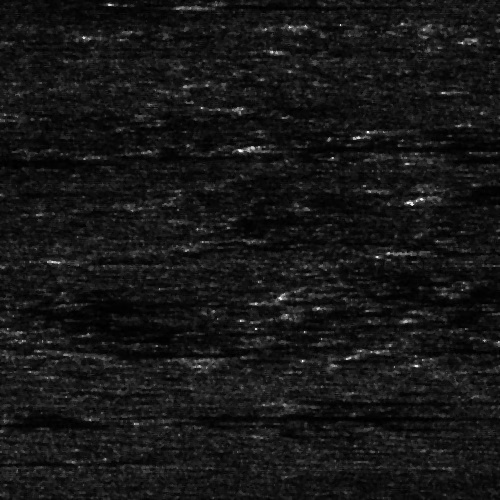object: (104, 408, 219, 425), (349, 148, 484, 161), (316, 342, 473, 353), (218, 139, 323, 152), (401, 185, 464, 206), (343, 123, 426, 136), (44, 343, 117, 354), (137, 0, 220, 9), (380, 247, 463, 252), (282, 396, 323, 403)
shadow: (162, 408, 469, 425), (271, 139, 500, 152), (81, 343, 322, 354), (179, 0, 361, 9), (0, 454, 124, 467), (433, 185, 500, 206), (395, 342, 500, 353), (417, 148, 500, 161), (303, 396, 429, 403), (385, 123, 450, 136), (0, 418, 60, 425), (422, 247, 500, 252), (0, 160, 114, 163)
